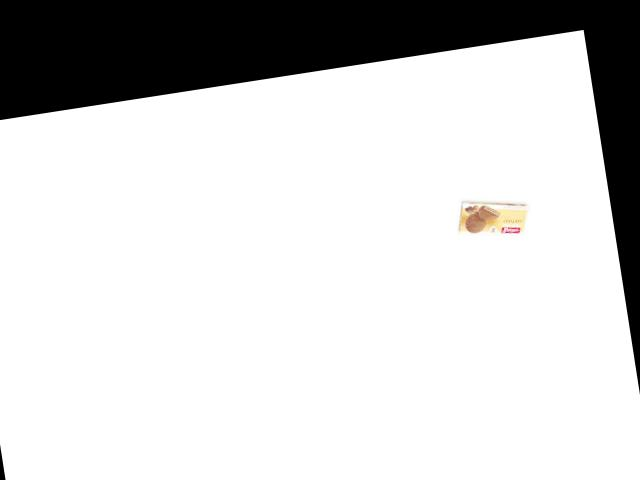chocolate: (450, 197, 543, 244)
